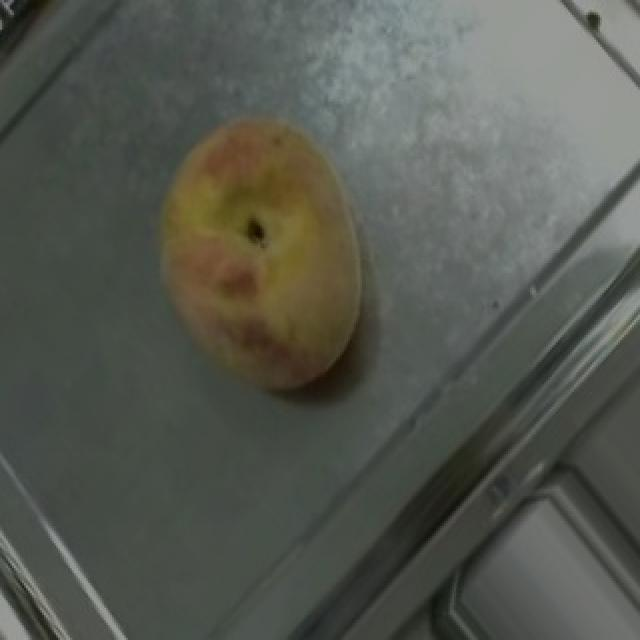Fruit: (108, 77, 426, 432)
